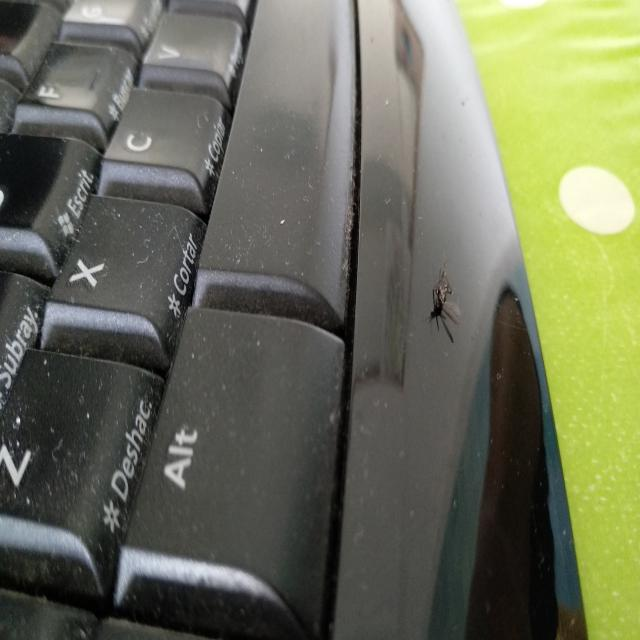albopictus: (424, 260, 460, 348)
